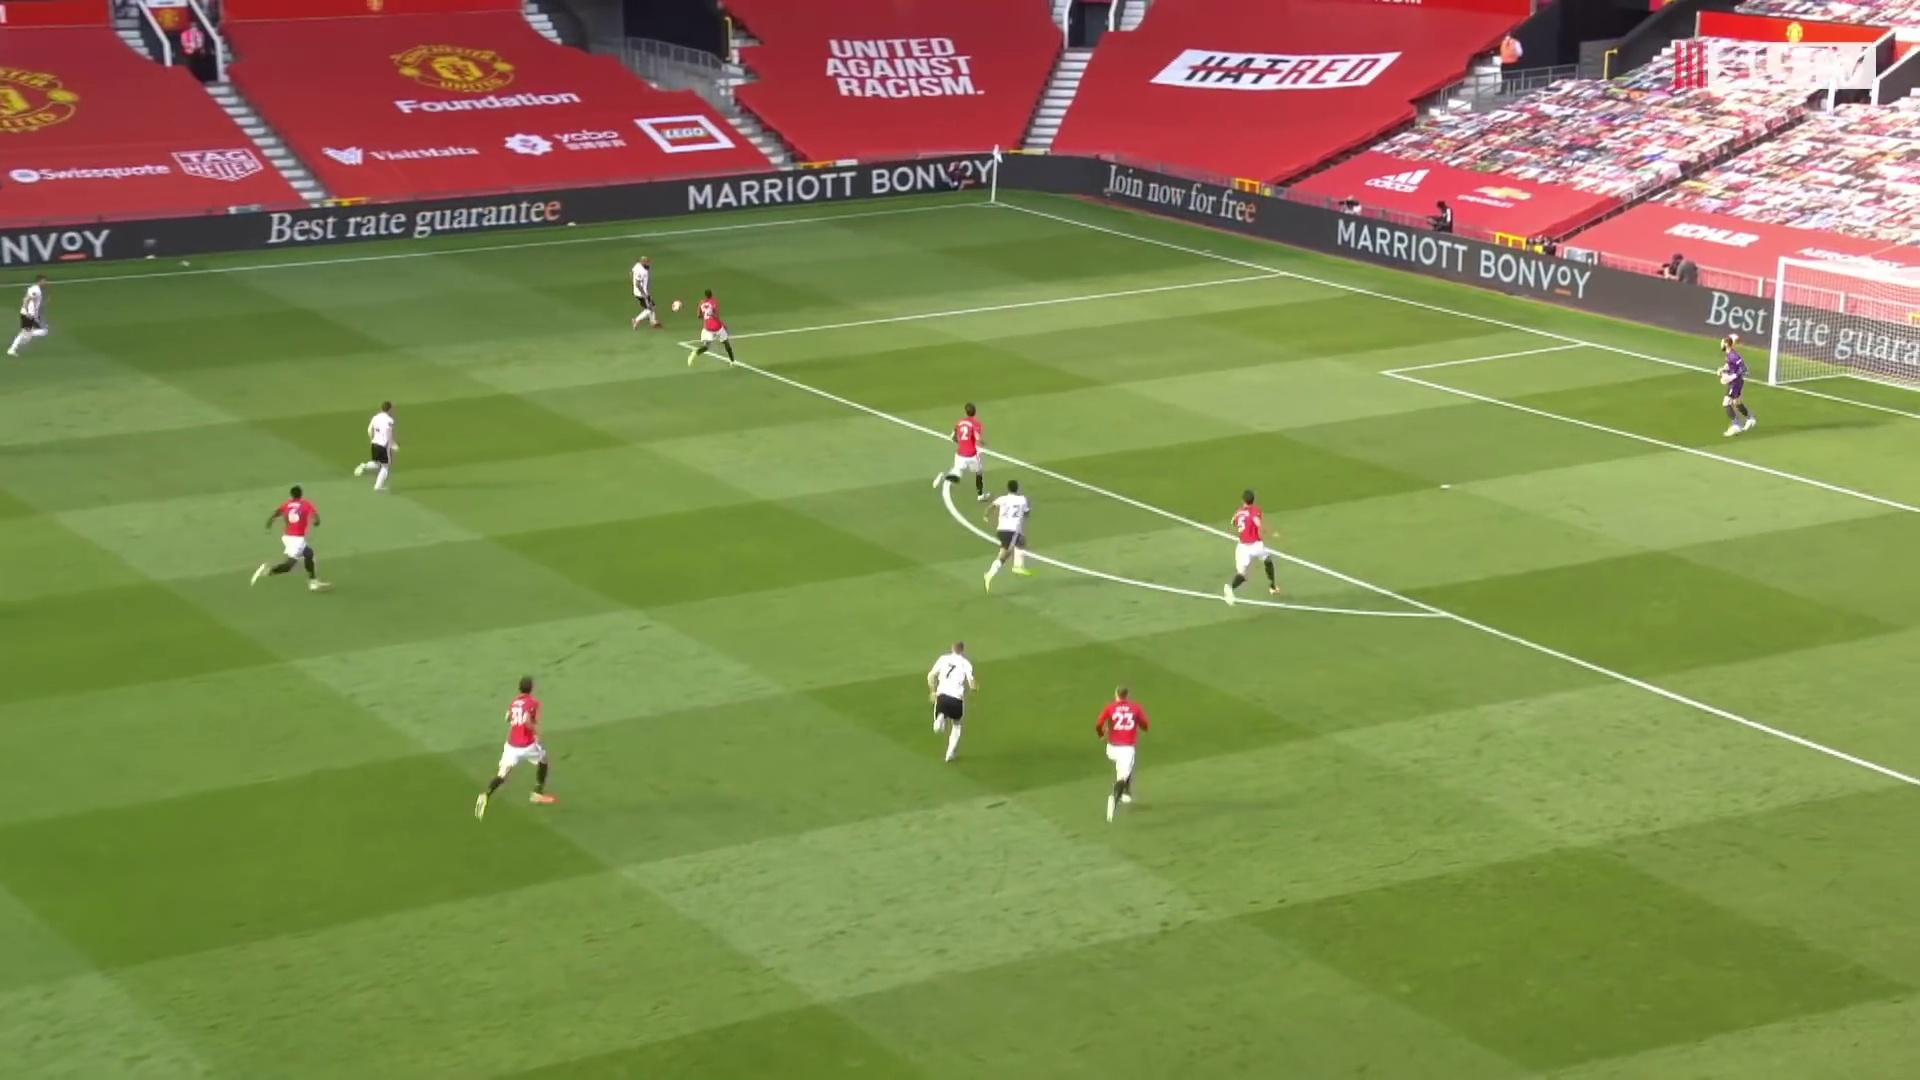ball: (670, 297, 685, 315)
goalkeeper: (1715, 333, 1765, 442)
player: (472, 673, 566, 823), (247, 480, 329, 597), (1092, 680, 1153, 825), (923, 636, 983, 768), (1219, 488, 1283, 607), (980, 478, 1036, 597), (931, 401, 991, 502), (356, 398, 409, 495), (3, 272, 58, 365), (685, 288, 743, 371), (627, 253, 669, 336)
